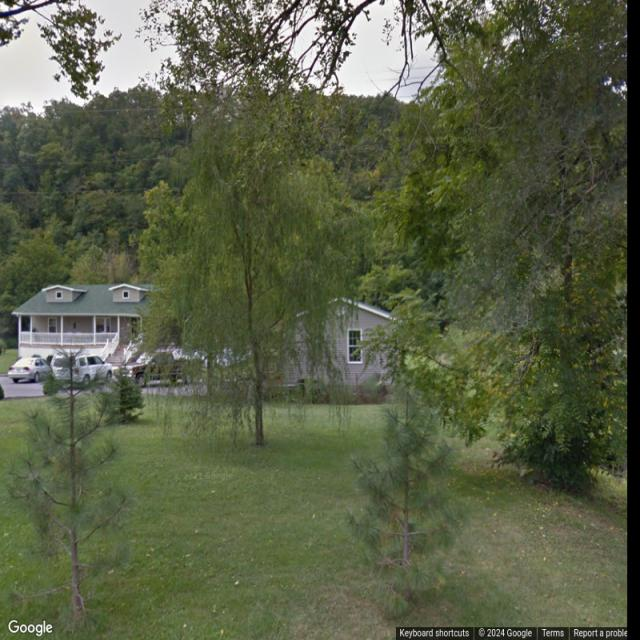House: (12, 282, 208, 368), (276, 294, 404, 390)
